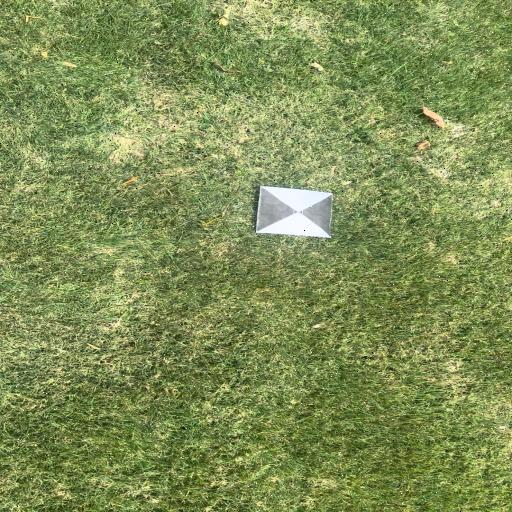target: (258, 186, 333, 237)
